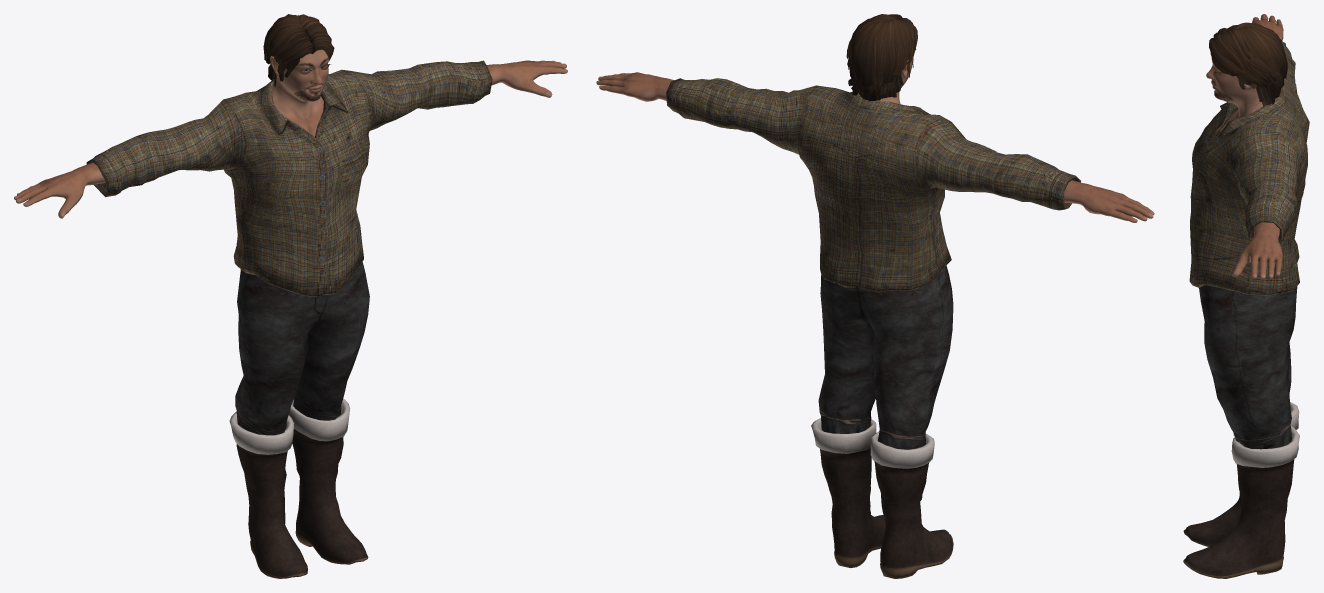
The model's file is plotnic.obj.
The picture shows the model from 3 angles, left to right: view 1: azimuth 30°, elevation 25°; view 2: azimuth 150°, elevation 25°; view 3: azimuth 270°, elevation 25°; orthographic projection. The views are drawn at different scales.
Parts seen in each view (by area): view 1: Tops, Bottoms, Shoes, Body, Hair; view 2: Tops, Bottoms, Shoes, Hair, Body; view 3: Tops, Bottoms, Shoes, Hair, Body.
Part boxes in pixels (bbox=[...]): Tops: bbox=[86, 60, 492, 296]; Bottoms: bbox=[235, 261, 369, 435]; Shoes: bbox=[229, 398, 368, 578]; Body: bbox=[14, 25, 567, 218]; Hair: bbox=[263, 14, 334, 86]; Tops: bbox=[666, 78, 1080, 292]; Bottoms: bbox=[818, 265, 953, 449]; Shoes: bbox=[811, 418, 953, 578]; Hair: bbox=[846, 14, 917, 100]; Body: bbox=[596, 58, 1154, 222]; Tops: bbox=[1189, 39, 1309, 296]; Bottoms: bbox=[1199, 285, 1297, 449]; Shoes: bbox=[1183, 402, 1299, 578]; Hair: bbox=[1209, 22, 1287, 106]; Body: bbox=[1206, 14, 1283, 279].
Bounding box in the file's own units: 194 × 181 × 39.07.
5 materials, 5 textured.
